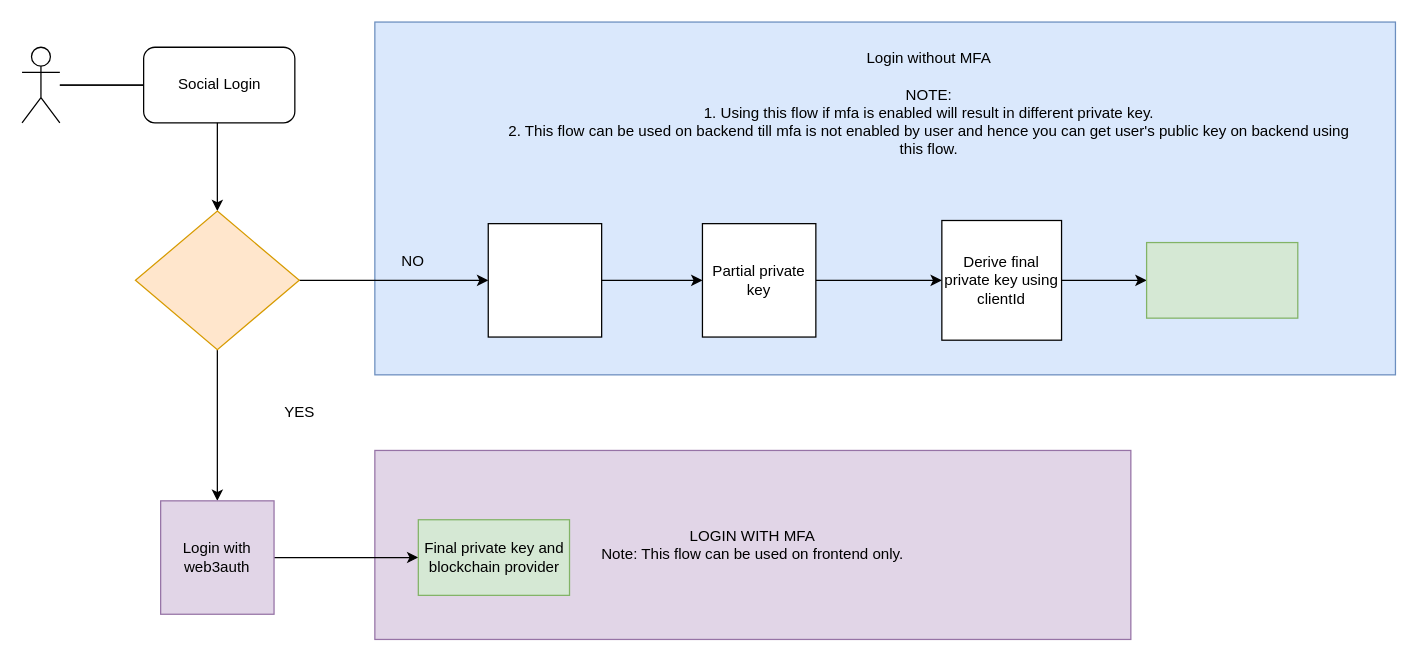
Some shapes in this 1418 by 662 pixel diagram are drawn without their labels. Each missing label, with the centre of its shape:
"Get blockchain provider using final private key" goes at point 1221,279.
"is web3auth mfa enabled?" goes at point 216,280.
"Login with torus.js" goes at point 544,279.
